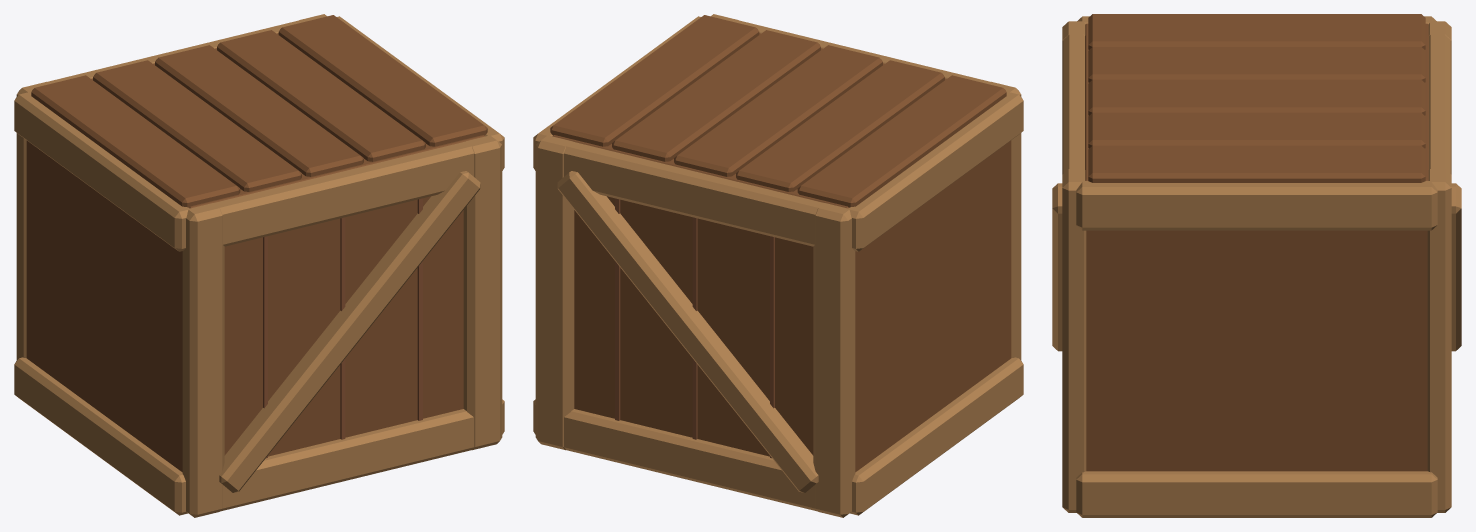
The model's file is Supply_Crate.glb.
The picture shows the model from 3 angles, left to right: view 1: azimuth 30°, elevation 25°; view 2: azimuth 150°, elevation 25°; view 3: azimuth 270°, elevation 25°; orthographic projection. The views are drawn at different scales.
Visible parts, largest first — view 1: Crate core, Diagonal brace, Corner post, Horizontal rail.001, Corner post.001, Horizontal rail, Lid slat, Lid slat.004, Lid slat.002, Lid slat.001, Lid slat.003, Side rail.001 (+7 smaller); view 2: Crate core, Diagonal brace.001, Corner post.002, Horizontal rail.003, Corner post.003, Horizontal rail.002, Lid slat, Lid slat.004, Lid slat.002, Lid slat.001, Lid slat.003, Side rail.001 (+7 smaller); view 3: Crate core, Side rail.003, Side rail.002, Lid slat.004, Lid slat.003, Lid slat.002, Lid slat.001, Lid slat, Corner post.001, Corner post.003, Horizontal rail.003, Horizontal rail.001 (+4 smaller).
Boxes of the visible parts, x1,y1,x2,y2 form: Crate core: (26, 33, 485, 472); Diagonal brace: (219, 171, 480, 492); Corner post: (182, 203, 224, 517); Horizontal rail.001: (196, 136, 494, 246); Corner post.001: (463, 135, 502, 450); Horizontal rail: (220, 409, 473, 511); Lid slat: (31, 75, 240, 207); Lid slat.004: (278, 15, 487, 146); Lid slat.002: (155, 45, 363, 176); Lid slat.001: (93, 60, 301, 191); Lid slat.003: (217, 30, 425, 161); Side rail.001: (14, 92, 189, 251); Crate core: (552, 33, 1011, 472); Diagonal brace.001: (557, 171, 818, 492); Corner post.002: (813, 203, 855, 517); Horizontal rail.003: (543, 136, 842, 246); Corner post.003: (535, 135, 574, 450); Horizontal rail.002: (564, 409, 817, 511); Lid slat: (797, 75, 1006, 207); Lid slat.004: (550, 15, 759, 146); Lid slat.002: (674, 45, 882, 176); Lid slat.001: (736, 60, 944, 191); Lid slat.003: (612, 30, 820, 161); Side rail.001: (848, 92, 1023, 251); Crate core: (1085, 23, 1428, 471); Side rail.003: (1076, 181, 1437, 230); Side rail.002: (1076, 471, 1437, 517); Lid slat.004: (1088, 145, 1425, 182); Lid slat.003: (1088, 112, 1425, 148); Lid slat.002: (1088, 79, 1425, 115); Lid slat.001: (1088, 47, 1425, 82); Lid slat: (1088, 14, 1425, 49); Corner post.001: (1062, 169, 1086, 512); Corner post.003: (1427, 169, 1451, 512); Horizontal rail.003: (1429, 22, 1450, 181); Horizontal rail.001: (1063, 22, 1084, 181).
Size of the model in its own units: 1.04 by 0.9325 by 1.02.
